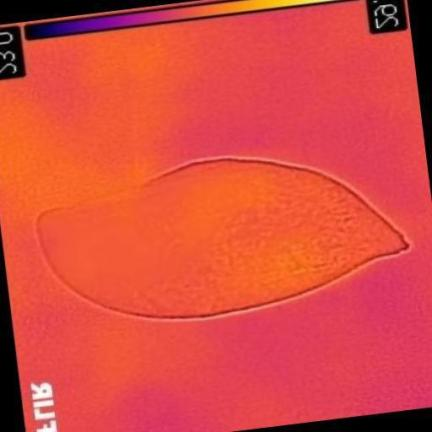mango: (40, 160, 407, 319)
